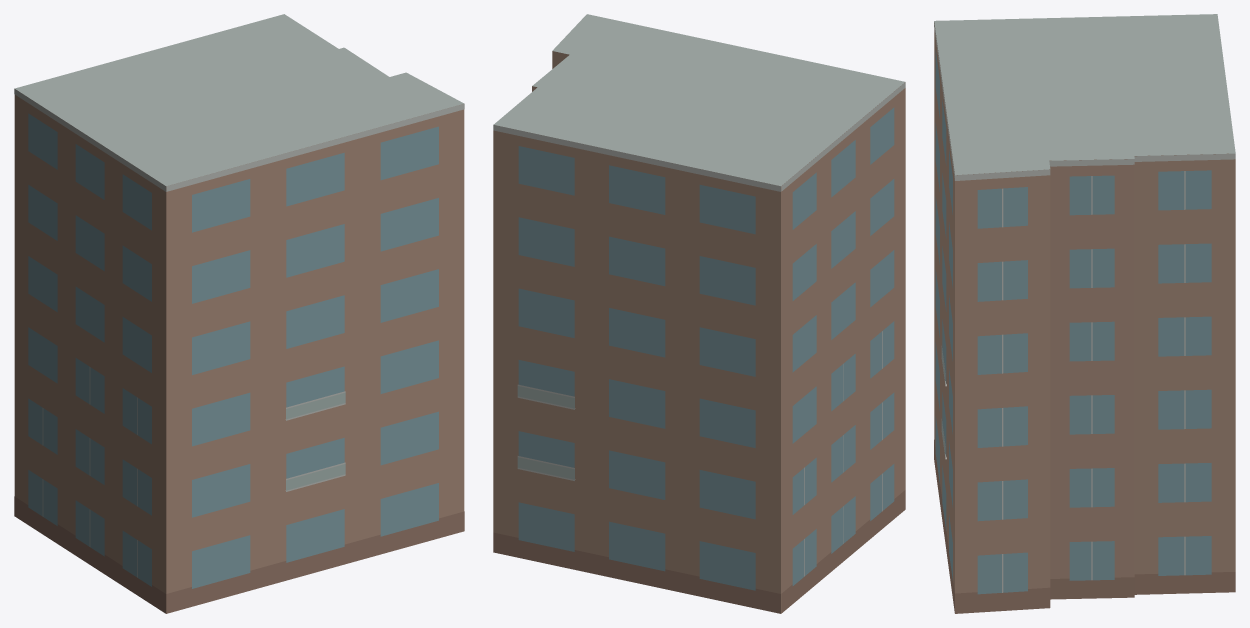
Rendered from survey-upis-32744337.glb.
3 renders of one model, left to right at view 1: azimuth 30°, elevation 25°; view 2: azimuth 150°, elevation 25°; view 3: azimuth 270°, elevation 25°, orthographic. The views are drawn at different scales.
Visible parts, largest first — view 1: survey-upis-32744337.tmp; view 2: survey-upis-32744337.tmp; view 3: survey-upis-32744337.tmp.
Part boxes in pixels (x1,y1,x2,y2): survey-upis-32744337.tmp: (14,14,464,613); survey-upis-32744337.tmp: (493,14,905,613); survey-upis-32744337.tmp: (934,14,1235,613).
Size of the model in its own units: 14.36 by 18.2 by 11.35.
